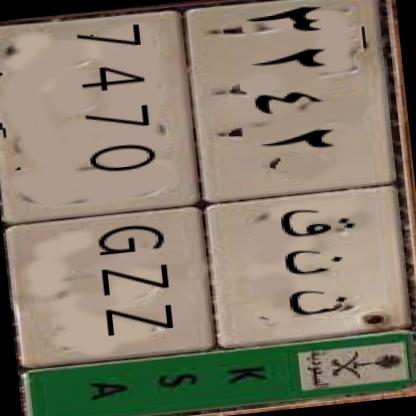english: (0, 4, 234, 375)
